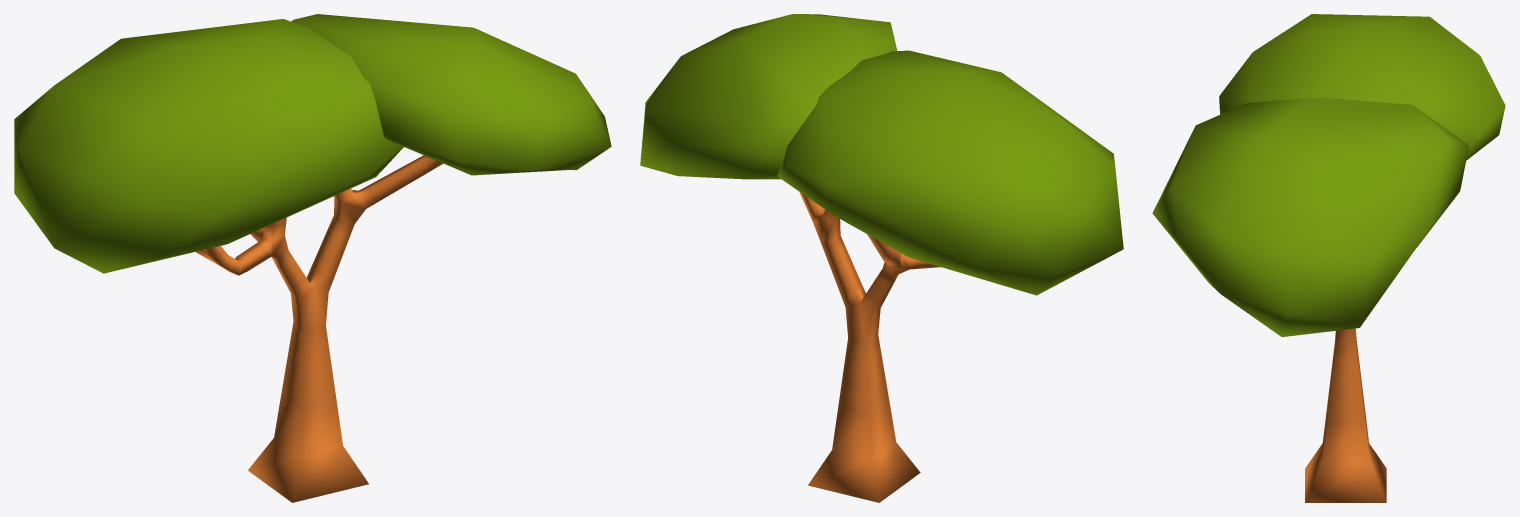
File: LVL1-Tree.fbx
3 views of the same model, side by side, from view 1: azimuth 30°, elevation 25°; view 2: azimuth 150°, elevation 25°; view 3: azimuth 270°, elevation 25° (orthographic). The views are drawn at different scales.
Parts seen in each view (by area): view 1: Vert.002; view 2: Vert.002; view 3: Vert.002.
Boxes of the visible parts, bbox=[...] form: Vert.002: bbox=[14, 14, 611, 502]; Vert.002: bbox=[640, 14, 1123, 502]; Vert.002: bbox=[1152, 14, 1505, 502].
Size of the model in its own units: 1655 by 1334 by 1036.
